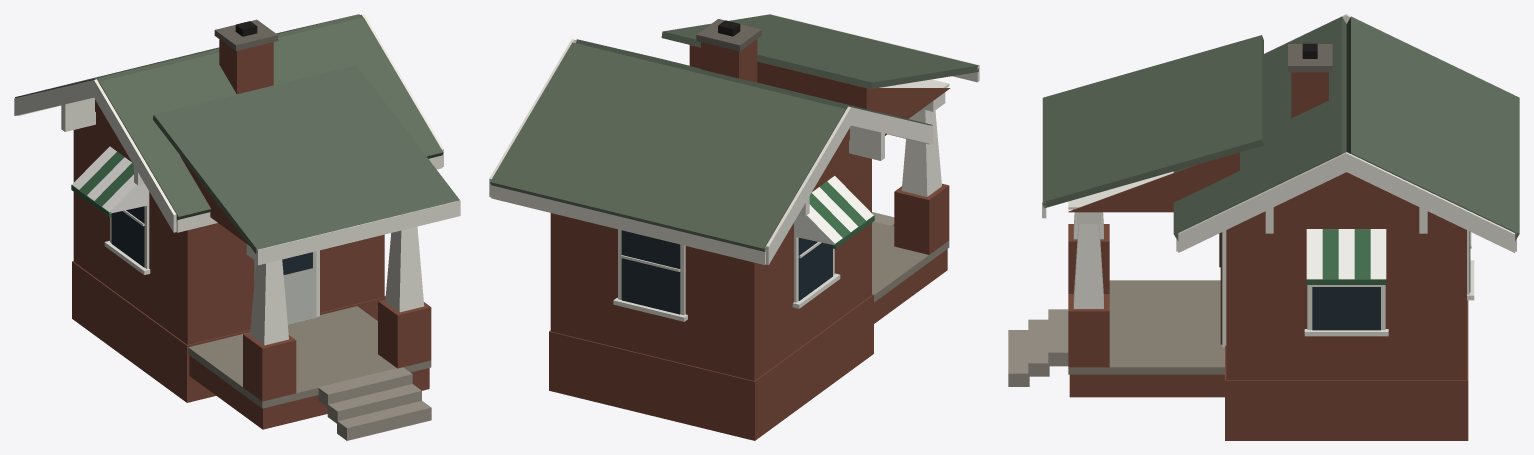
The model's file is brick-cottage-0002.glb.
The picture shows the model from 3 angles, left to right: view 1: azimuth 30°, elevation 25°; view 2: azimuth 150°, elevation 25°; view 3: azimuth 270°, elevation 25°; orthographic projection. The views are drawn at different scales.
Visible parts, largest first — view 1: kit-brick-cottage-0002; view 2: kit-brick-cottage-0002; view 3: kit-brick-cottage-0002.
Part boxes in pixels (bbox=[...]): kit-brick-cottage-0002: bbox=[14, 14, 460, 440]; kit-brick-cottage-0002: bbox=[489, 14, 979, 440]; kit-brick-cottage-0002: bbox=[1008, 14, 1519, 440].
Bounding box in the file's own units: 4.94 × 5.49 × 7.44.
